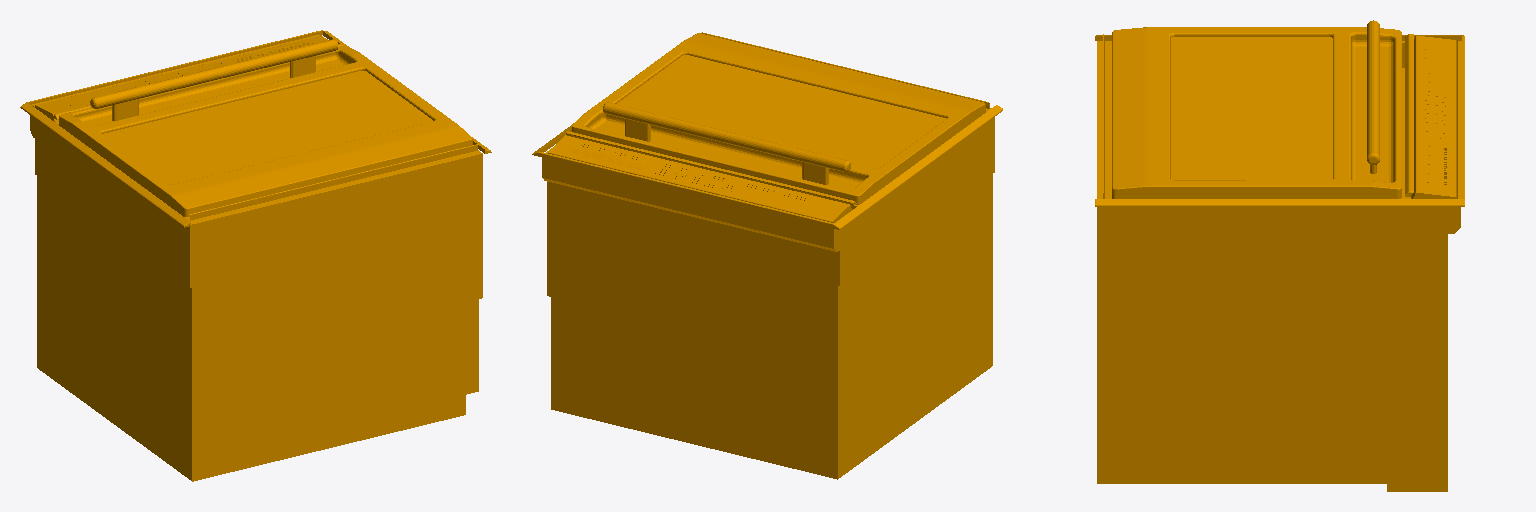
The robot description file, URDF, robot "none":
<robot name="none">
       <link name="none">
           <visual>
               <origin  rpy="0 0 0" xyz="0 0 0" />
               <geometry>
                   <mesh filename="3d-model.obj"  scale="0.001 0.001 0.001"/>
               </geometry>
           </visual>
          <collision>
<origin rpy="1.57 0 0" xyz="0 0 0.5" />
              <geometry>
                  <box size=" 1.062759 1.000000 1.058928" />
              </geometry>
          </collision>

          <inertial>
            <mass value="0.0" />
            <inertia ixx="0.05" ixy="0.0" ixz="0.0" iyy="0.05" iyz="0.0" izz="0.05"/>
          </inertial>
      </link>
  </robot>

--- What the picture shows (computed from the rendered views, not written in the file) ---
3 views of the same robot in one strip: view 1: azimuth 30°, elevation 25°; view 2: azimuth 150°, elevation 25°; view 3: azimuth 270°, elevation 25° (orthographic).
Robot: none — 1 links, 0 joints (none); root link none; default pose: every joint at zero.
Links seen in each view (by area): view 1: none; view 2: none; view 3: none.
Link boxes in pixels (box(x1,y1,x2,y2)): none: box(20, 30, 491, 481); none: box(532, 32, 1002, 479); none: box(1095, 20, 1464, 491).
Size in the robot's own frame: 0.7583 by 0.6991 by 0.6788 metres.
Meshes: 1 distinct files referenced, 1 mesh visuals loaded (1 OBJ).